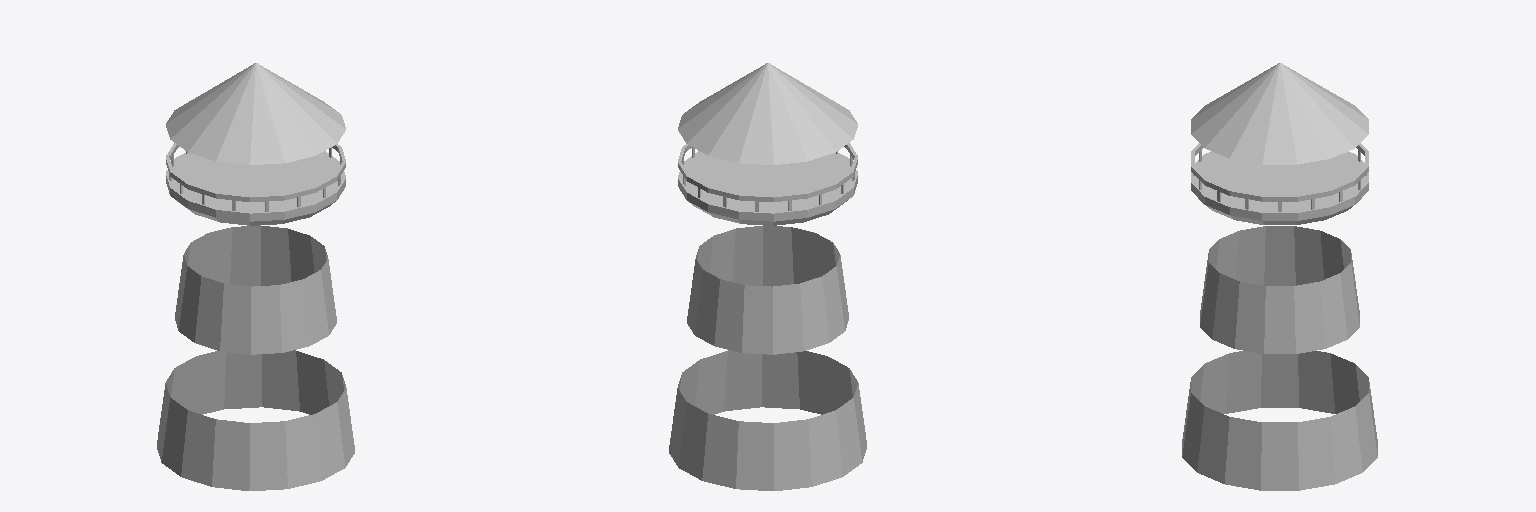
File: lighthouse_part_1.obj
3 renders of one model, left to right at view 1: azimuth 30°, elevation 25°; view 2: azimuth 150°, elevation 25°; view 3: azimuth 270°, elevation 25°, orthographic.
Visible parts, largest first — view 1: Red; view 2: Red; view 3: Red.
Boxes of the visible parts, x1=… form: Red: x1=157, y1=63, x2=354, y2=490; Red: x1=669, y1=63, x2=866, y2=490; Red: x1=1182, y1=63, x2=1377, y2=490.
Size of the model in its own units: 3.14 by 6.86 by 3.14.